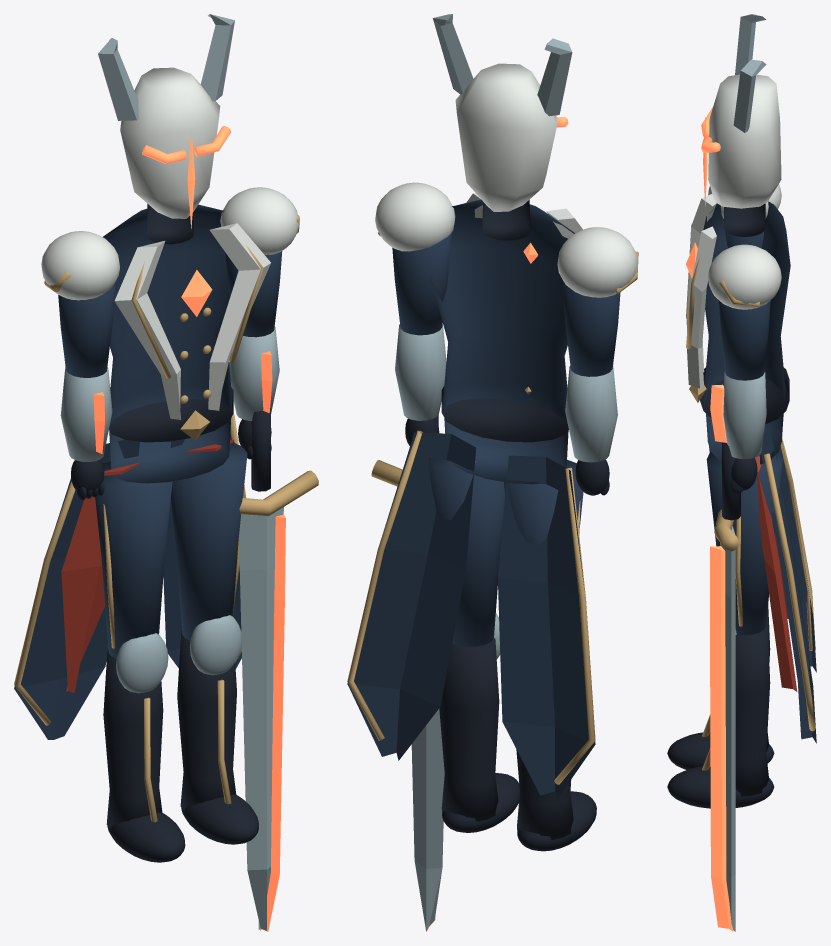
Rendered from hollow.glb.
3 renders of one model, left to right at view 1: azimuth 30°, elevation 25°; view 2: azimuth 150°, elevation 25°; view 3: azimuth 270°, elevation 25°, orthographic. The views are drawn at different scales.
Parts seen in each view (by area): view 1: belt clasp, crossguard, coat lining, crown horn, boot gold rail, boot gold rail.001, fitted trousers, fitted trousers.001, pauldron.001, shoulder edge.001, finger.001, finger.005 (+1 smaller); view 2: belt clasp, coat lining.001, coat lining, crown horn, boot gold rail.001, pauldron.001, shoulder edge.001, fitted trousers.001, crossguard, finger.001, finger.005, boot gold rail (+1 smaller); view 3: belt clasp, crossguard, crown horn, boot gold rail.001, coat lining.001, shoulder edge.001, fitted trousers.001, finger.005, coat lining, boot gold rail, pauldron.001.
Part boxes in pixels (x1=…): belt clasp: x1=103, y1=204, x2=270, y2=483; crossguard: x1=238, y1=408, x2=318, y2=931; coat lining: x1=14, y1=439, x2=140, y2=739; crown horn: x1=98, y1=14, x2=234, y2=228; boot gold rail: x1=103, y1=633, x2=185, y2=862; boot gold rail.001: x1=177, y1=615, x2=258, y2=844; fitted trousers: x1=95, y1=462, x2=172, y2=658; fitted trousers.001: x1=171, y1=442, x2=247, y2=640; pauldron.001: x1=41, y1=231, x2=119, y2=377; shoulder edge.001: x1=220, y1=187, x2=299, y2=337; finger.001: x1=60, y1=367, x2=112, y2=499; finger.005: x1=229, y1=326, x2=279, y2=459; belt clasp: x1=430, y1=193, x2=582, y2=484; coat lining.001: x1=347, y1=430, x2=476, y2=760; coat lining: x1=497, y1=455, x2=595, y2=799; crown horn: x1=432, y1=14, x2=572, y2=211; boot gold rail.001: x1=439, y1=613, x2=519, y2=832; pauldron.001: x1=557, y1=227, x2=638, y2=376; shoulder edge.001: x1=375, y1=182, x2=455, y2=335; fitted trousers.001: x1=428, y1=458, x2=505, y2=646; crossguard: x1=371, y1=415, x2=444, y2=931; finger.001: x1=565, y1=366, x2=617, y2=495; finger.005: x1=395, y1=324, x2=446, y2=445; boot gold rail: x1=516, y1=749, x2=596, y2=851; belt clasp: x1=686, y1=194, x2=790, y2=464; crossguard: x1=710, y1=442, x2=740, y2=931; crown horn: x1=701, y1=14, x2=781, y2=208; boot gold rail.001: x1=667, y1=623, x2=774, y2=808; coat lining.001: x1=755, y1=428, x2=816, y2=743; shoulder edge.001: x1=707, y1=244, x2=781, y2=380; fitted trousers.001: x1=706, y1=452, x2=782, y2=635; finger.005: x1=710, y1=371, x2=766, y2=493; coat lining: x1=774, y1=437, x2=816, y2=672; boot gold rail: x1=667, y1=605, x2=774, y2=769; pauldron.001: x1=708, y1=184, x2=781, y2=248.
Size of the model in its own units: 0.8016 by 2.68 by 0.424.
